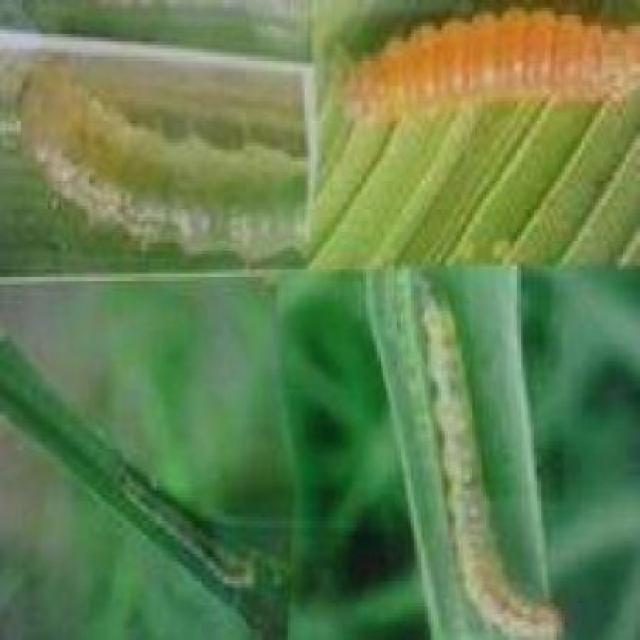leaf-folder: (372, 286, 606, 640), (18, 55, 299, 278), (344, 26, 640, 160), (119, 440, 287, 609)
